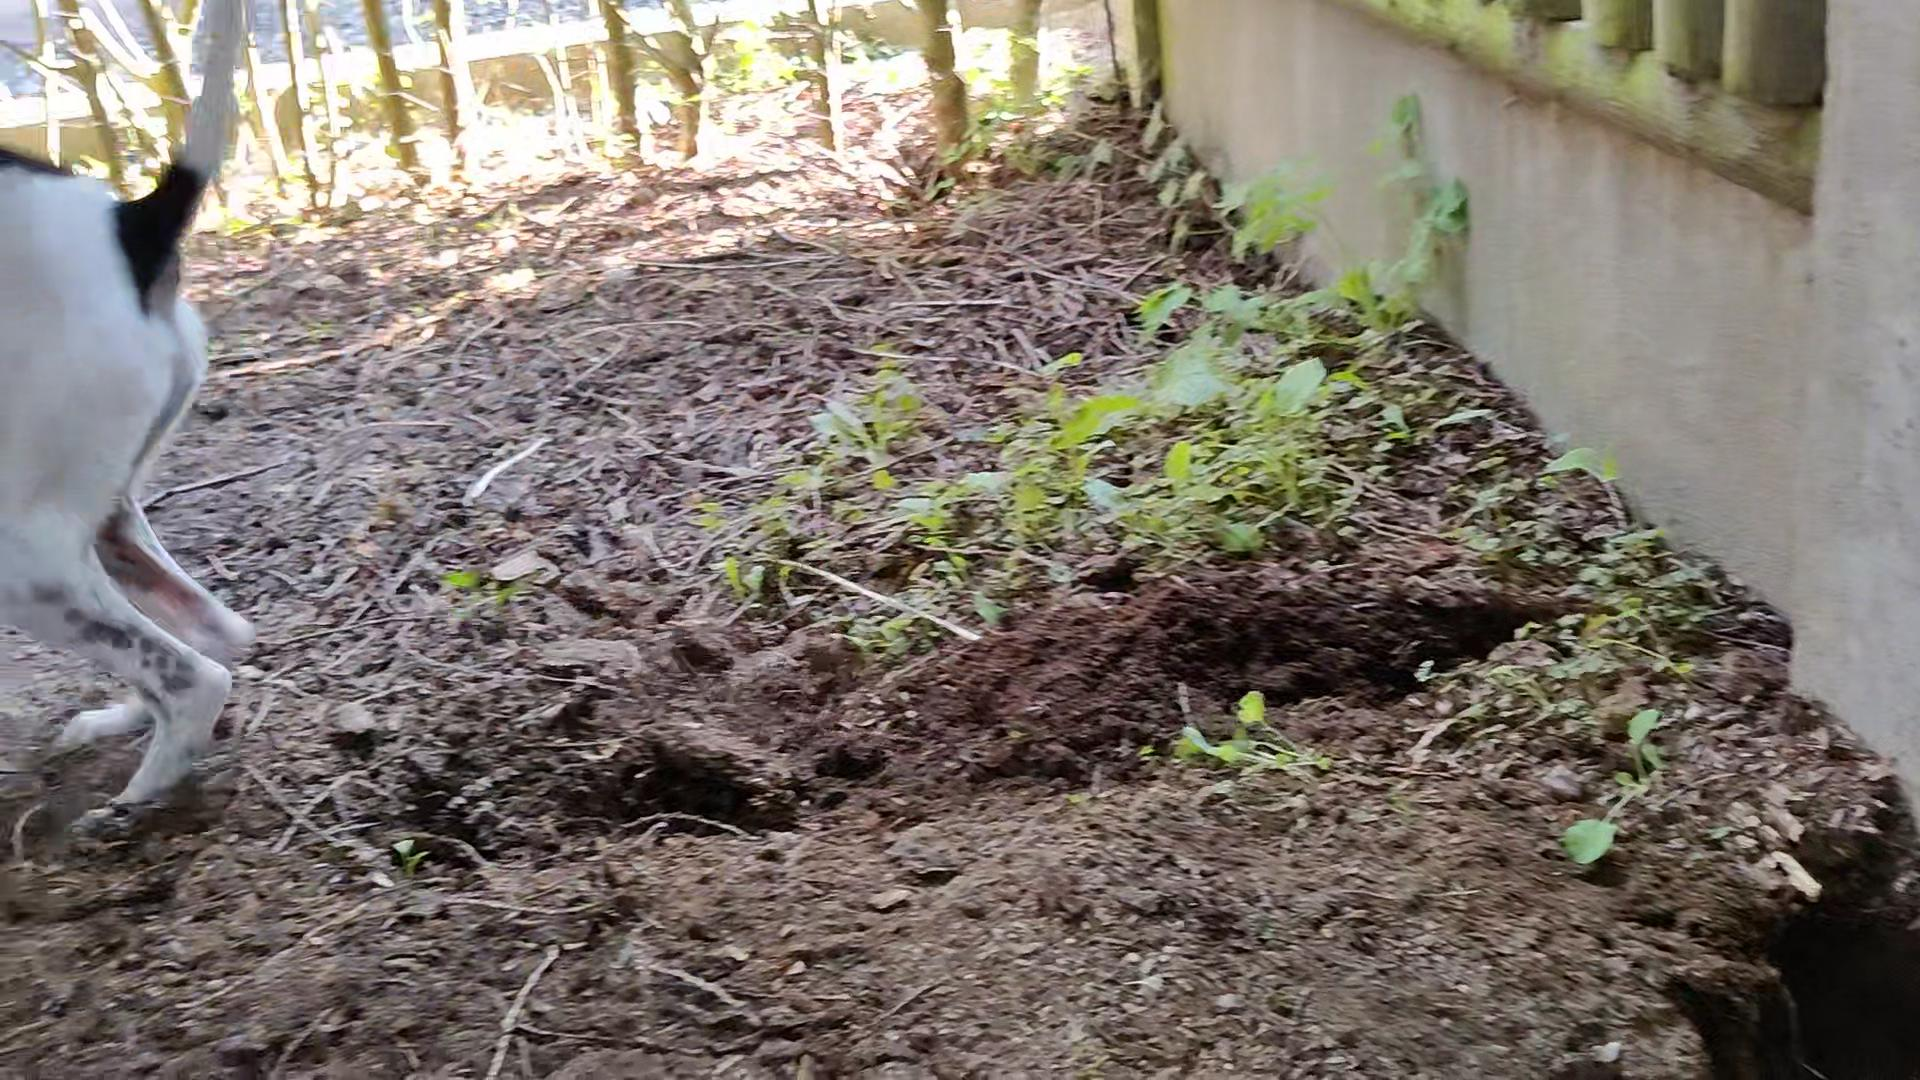Dog: (0, 0, 345, 840)
